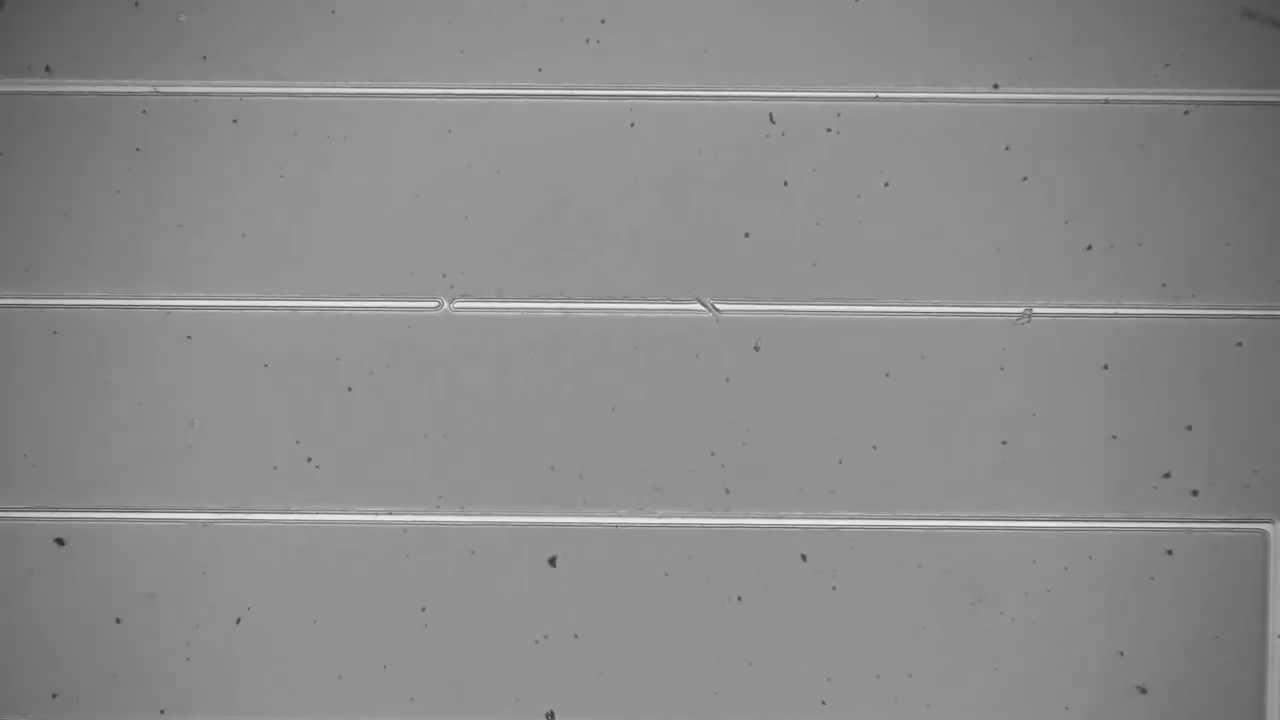open: (424, 288, 473, 324), (690, 290, 729, 325)
stains_enbedded: (1002, 292, 1044, 337)
